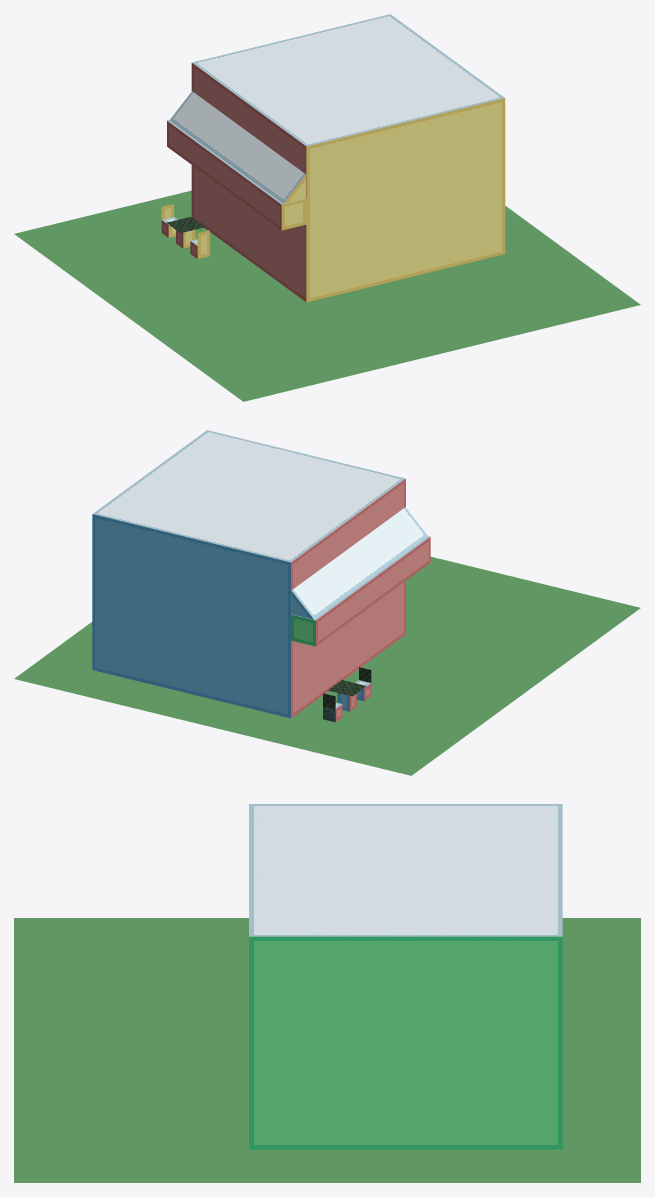
File: Cafe.gltf
3 views of the same model, one above another, from view 1: azimuth 30°, elevation 25°; view 2: azimuth 150°, elevation 25°; view 3: azimuth 270°, elevation 25° (orthographic). The views are drawn at different scales.
Parts seen in each view (by area): view 1: Cafe Building, Base[delete], Cafe Lining top, Cafe Lining Base; view 2: Cafe Building, Base[delete], Cafe Lining top, Cafe Lining Base; view 3: Cafe Building, Base[delete].
Part boxes in pixels (bbox=[...]): Cafe Building: bbox=[191, 14, 505, 302]; Base[delete]: bbox=[14, 190, 640, 401]; Cafe Lining top: bbox=[169, 91, 305, 203]; Cafe Lining Base: bbox=[167, 120, 306, 230]; Cafe Building: bbox=[92, 430, 405, 718]; Base[delete]: bbox=[14, 556, 640, 775]; Cafe Lining top: bbox=[291, 507, 427, 619]; Cafe Lining Base: bbox=[291, 536, 430, 646]; Cafe Building: bbox=[249, 804, 562, 1149]; Base[delete]: bbox=[14, 918, 640, 1182].
Bounding box in the file's own units: 2 × 0.75 × 2.
1 material, 1 textured.
